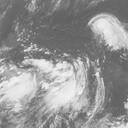cyclone: (31, 54, 92, 111), (88, 13, 127, 49)
